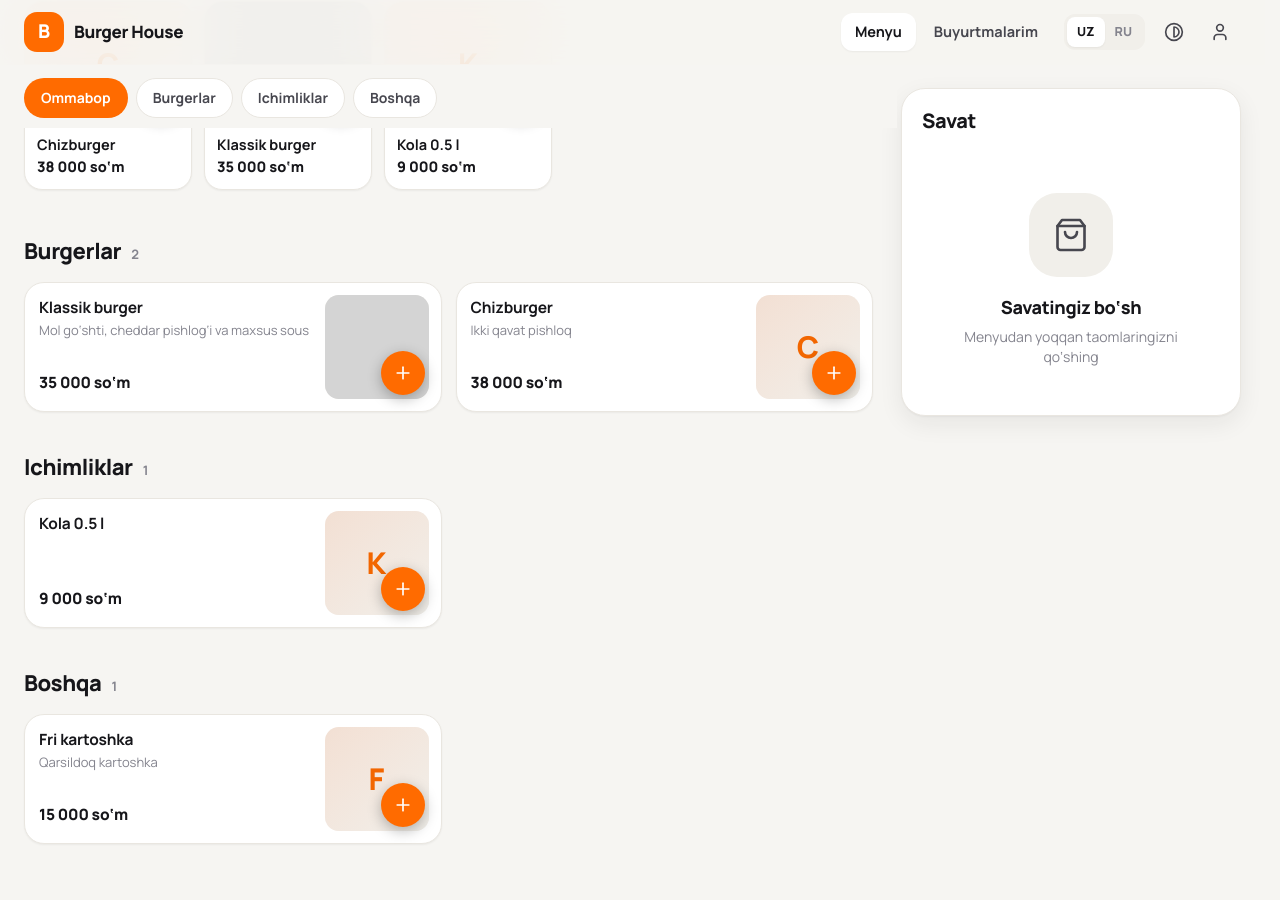
Test: catalog › adds and removes products with the card stepper and keeps the cart per shop host
(page scrolled)
Click the 3rd button named "Qo‘shish" at coordinates (402, 589), box [380,567,424,611]
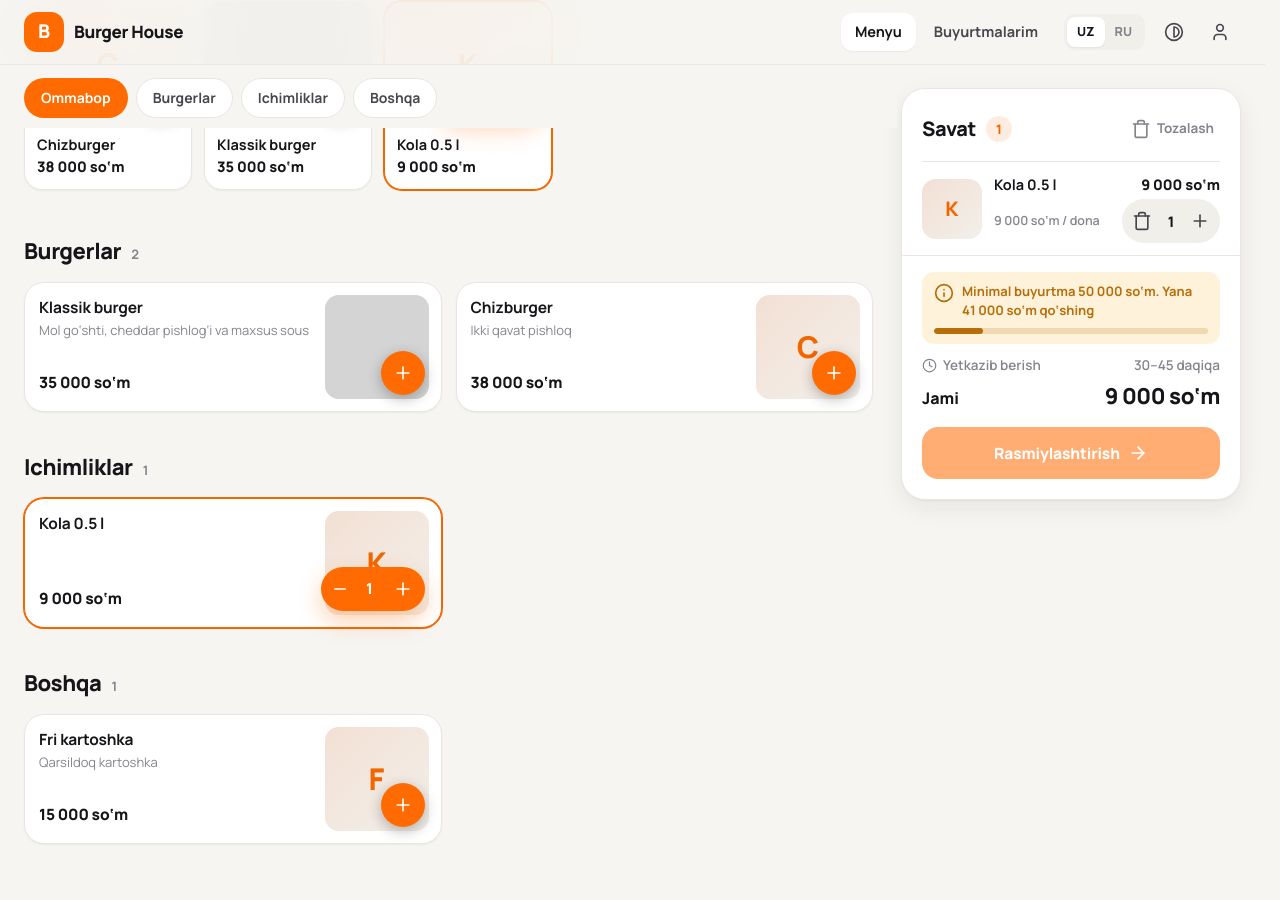
Expected: the 4th text "1" is shown, [366,578,373,600]
Click the 2nd button named "Ko‘paytirish" at coordinates (402, 589), box [380,567,424,611]
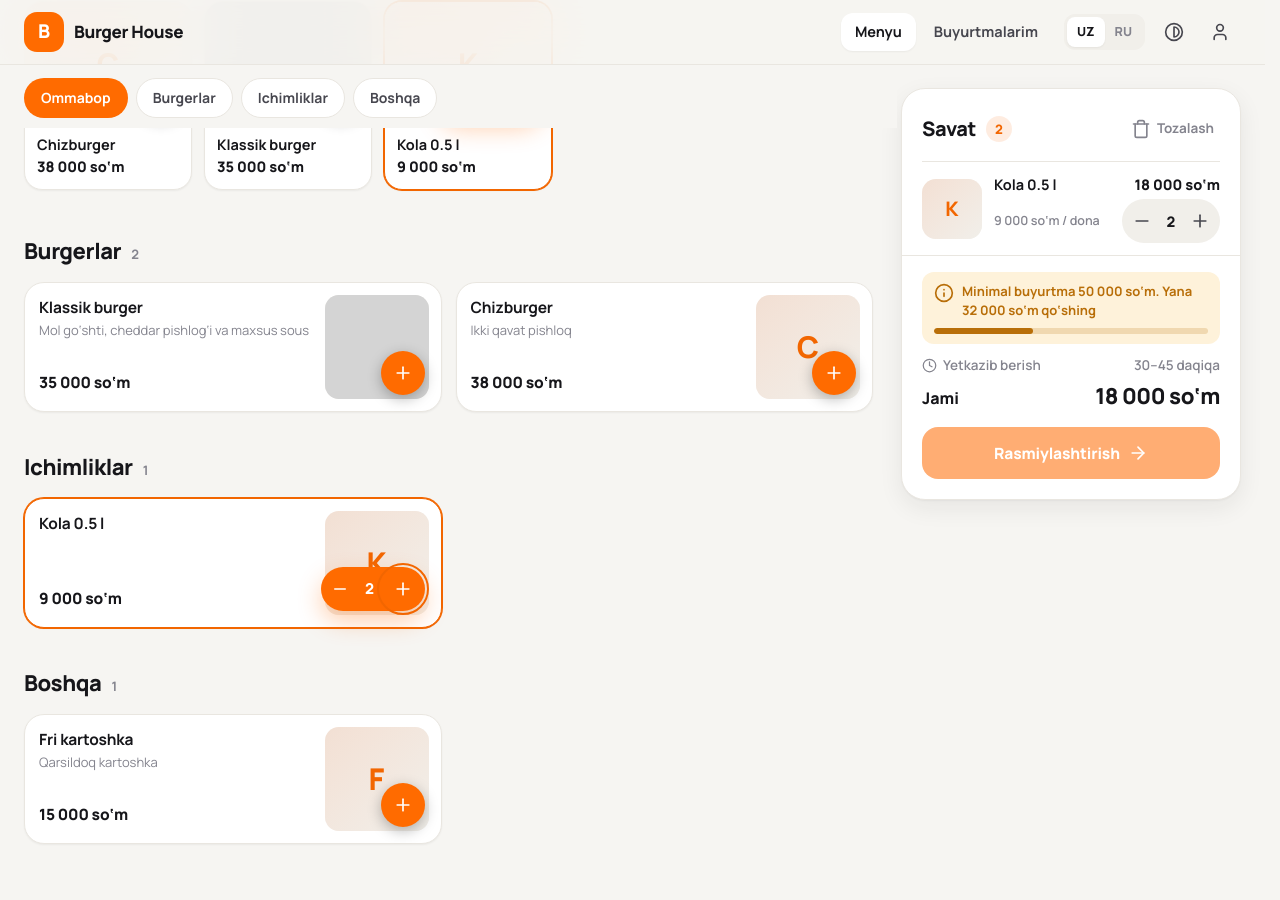
Click the 2nd button named "Ko‘paytirish" at coordinates (402, 589), box [380,567,424,611]
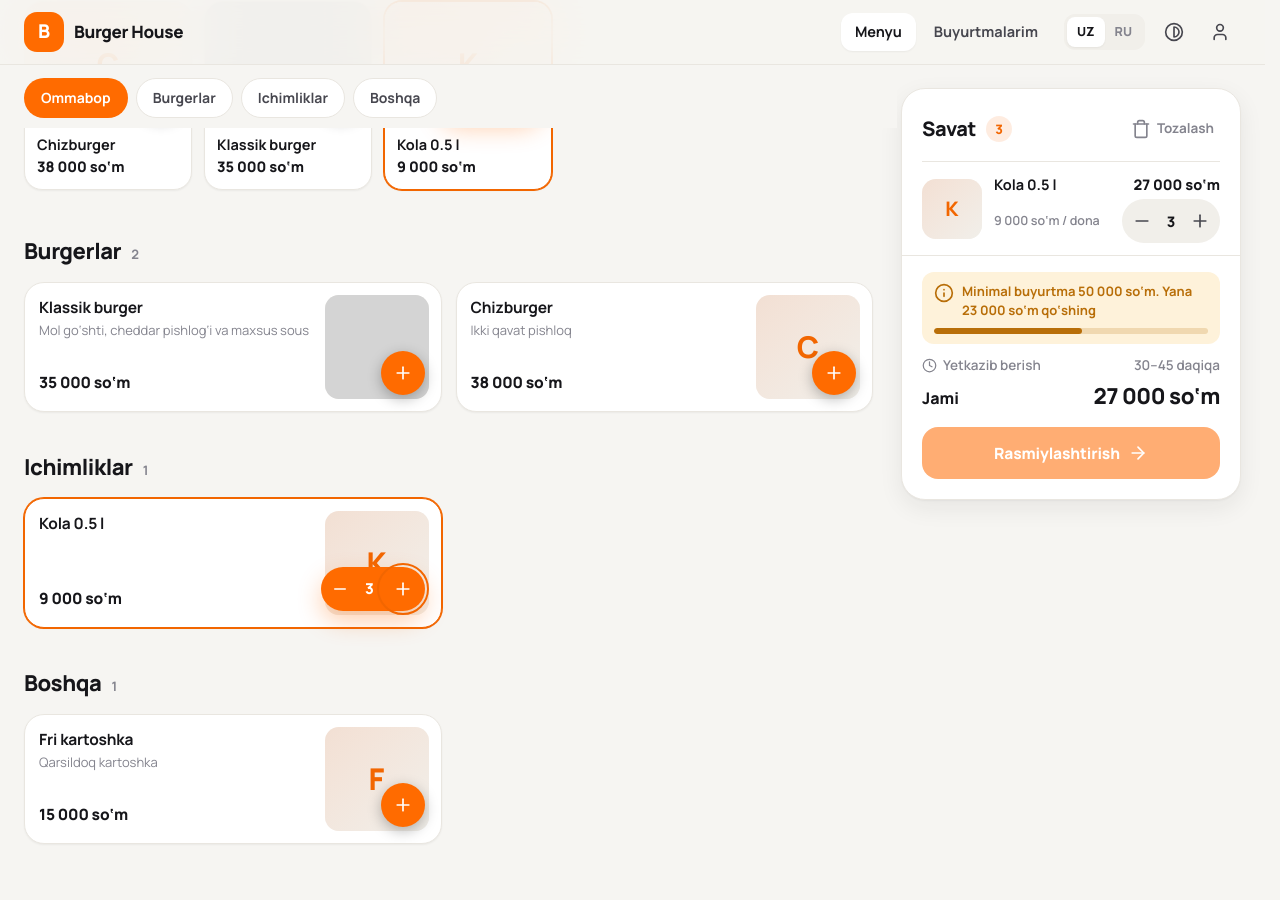
Expected: the 3rd text "3" is shown, [365,578,374,600]
Click the 2nd button named "Kamaytirish" at coordinates (340, 589), box [320,567,358,611]
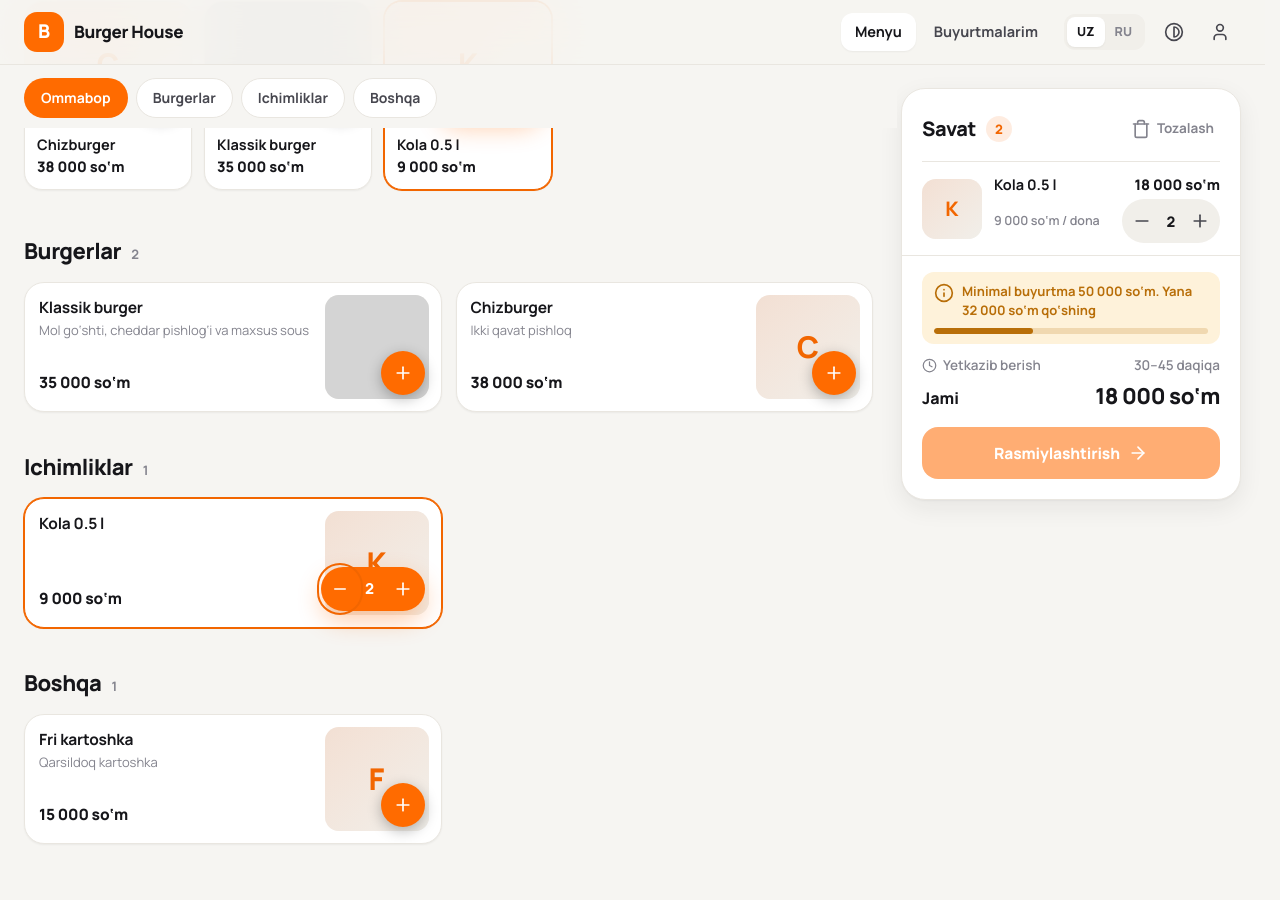
Click the 2nd button named "Kamaytirish" at coordinates (340, 589), box [320,567,358,611]
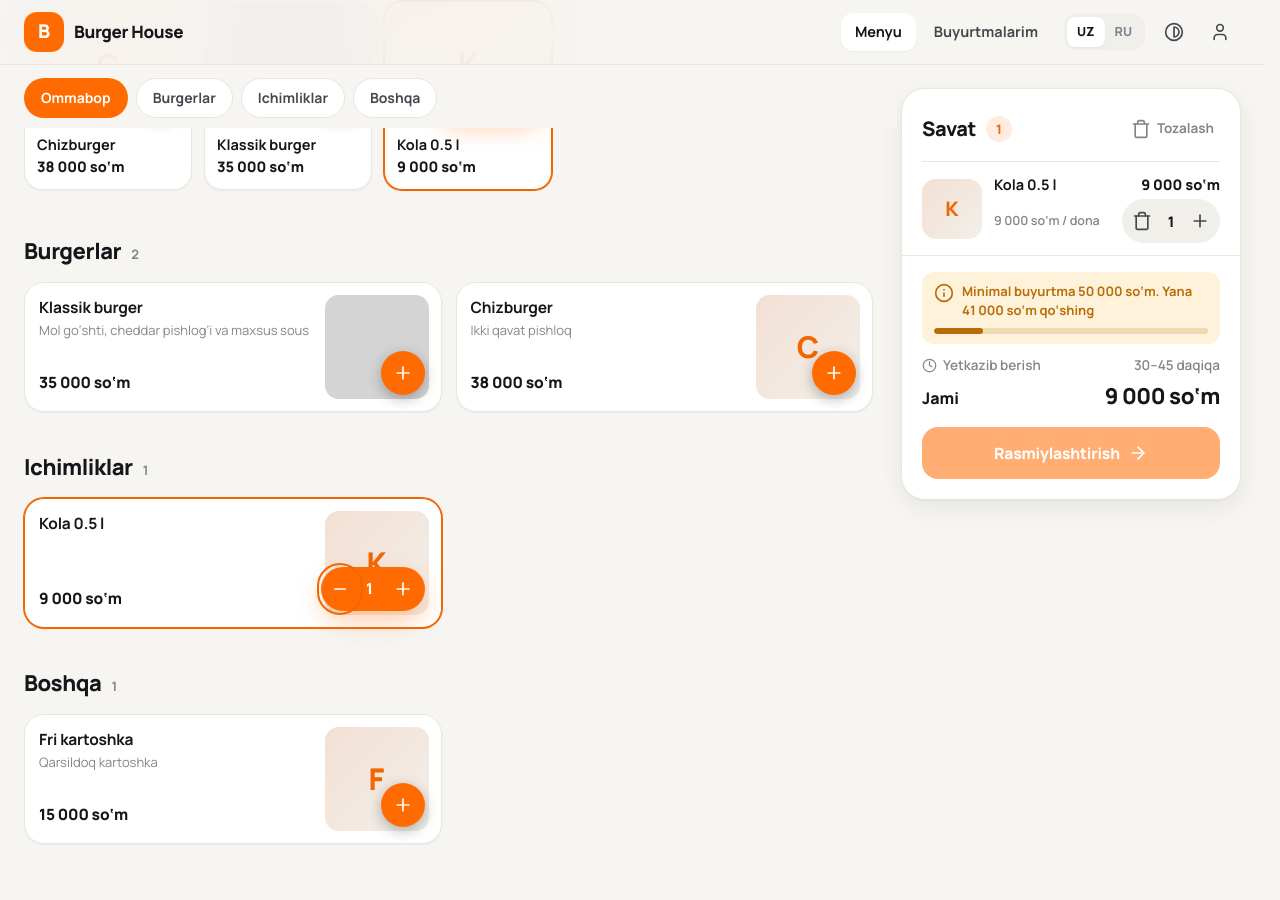
Click the button named "Kamaytirish" at coordinates (340, 589), box [320,567,358,611]
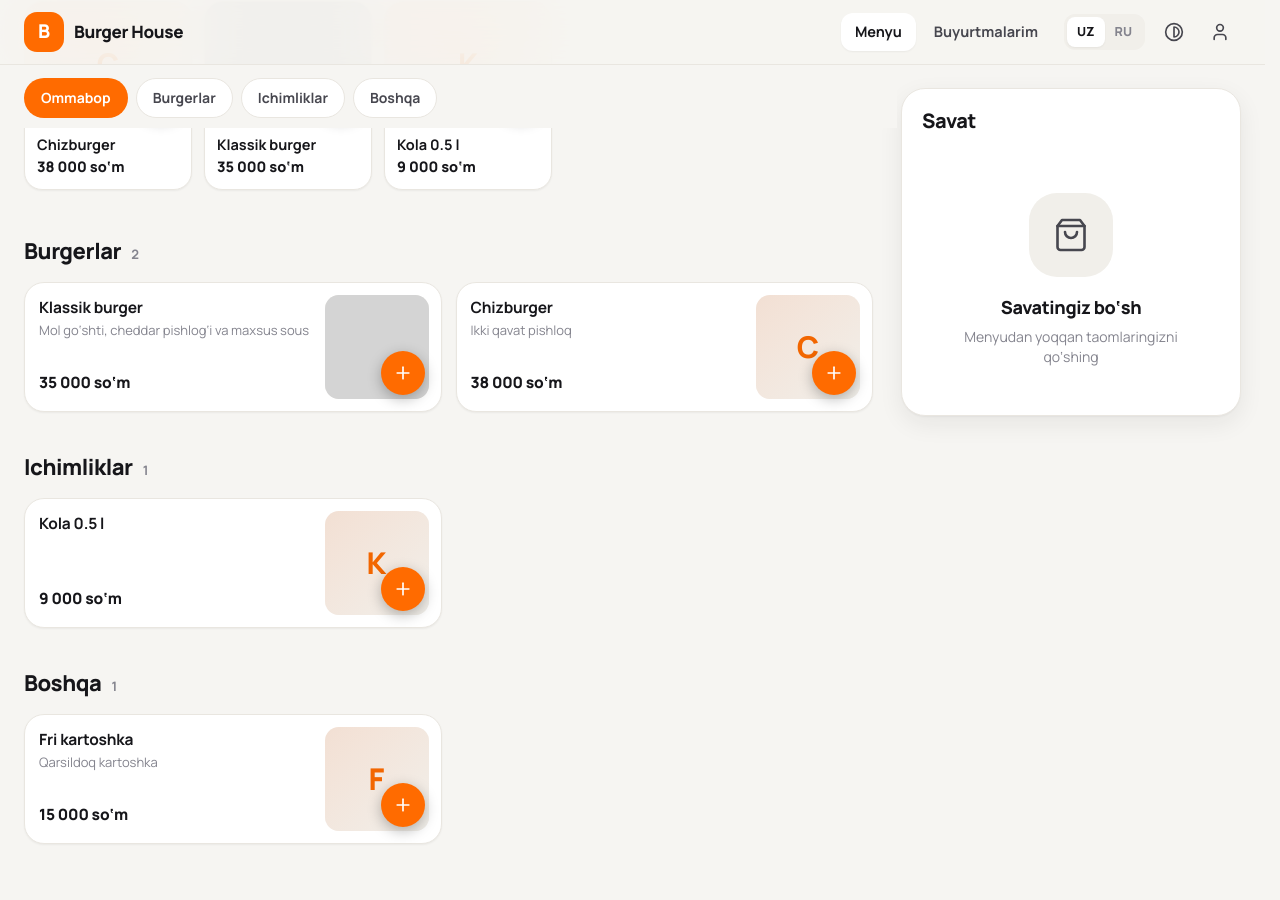
Expected: the 3rd button named "Qo‘shish" is shown, [380,567,424,611]
